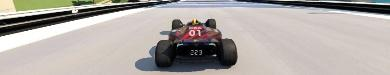Car: (154, 18, 237, 67)
Solid White and black: (0, 0, 17, 14)
curve: (0, 1, 389, 73)
